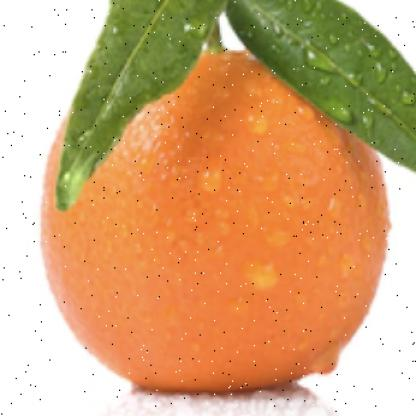orange: (31, 44, 397, 404)
